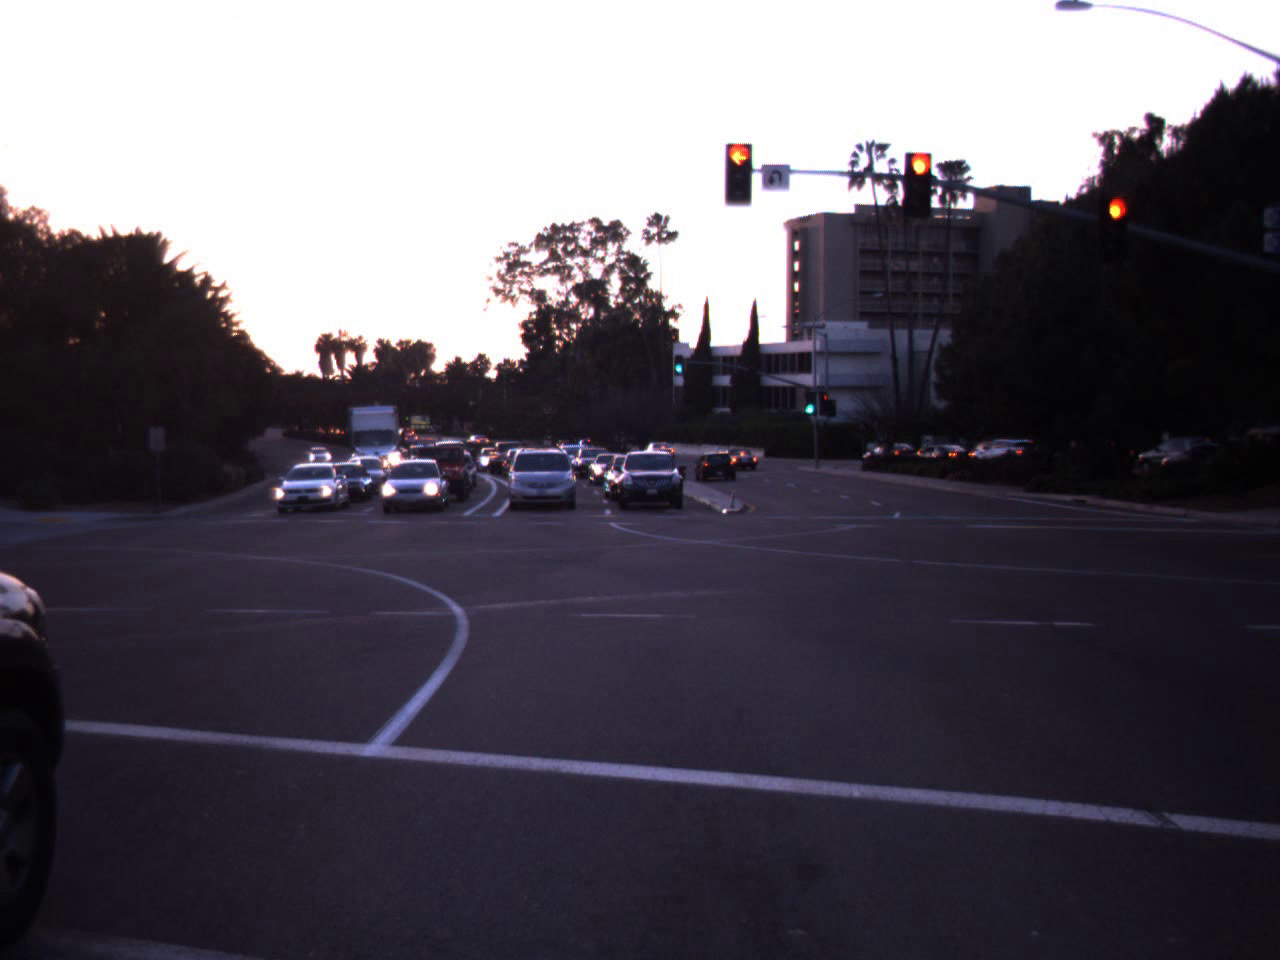go: (799, 380, 820, 415), (671, 352, 686, 372)
stop: (894, 142, 948, 236), (1095, 191, 1140, 272), (712, 136, 766, 203)
